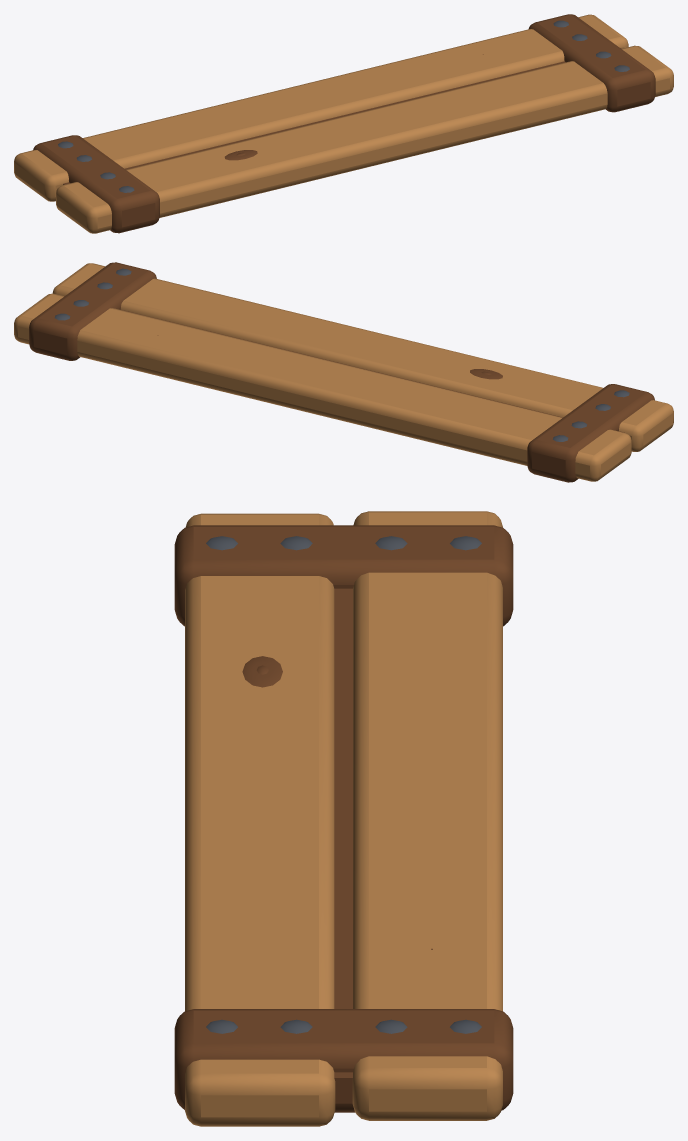
Rendered from part_plank.glb.
The picture shows the model from 3 angles, top to bottom: view 1: azimuth 30°, elevation 25°; view 2: azimuth 150°, elevation 25°; view 3: azimuth 270°, elevation 25°; orthographic projection. The views are drawn at different scales.
Parts seen in each view (by area): view 1: Plank; view 2: Plank; view 3: Plank.
Boxes of the visible parts, x1=… form: Plank: x1=14, y1=14, x2=673, y2=233; Plank: x1=14, y1=262, x2=673, y2=482; Plank: x1=174, y1=511, x2=513, y2=1126.
Bounding box in the file's own units: 2 × 0.12 × 0.5.
